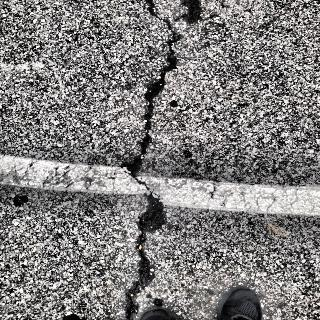crack: (101, 18, 202, 320)
